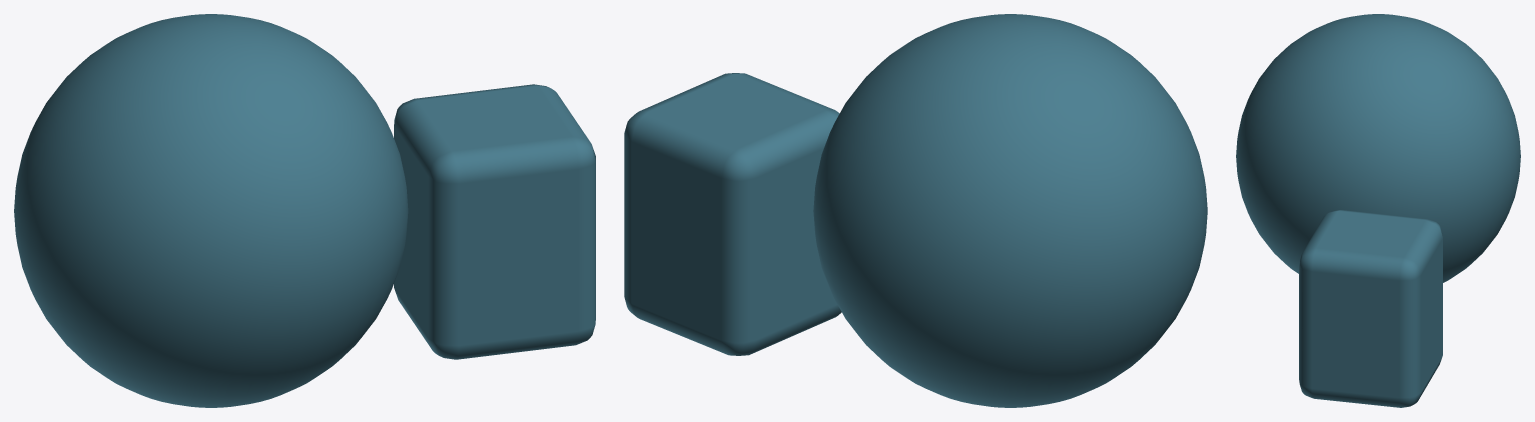
Rendered from two_tile_udim.obj.
3 views of the same model, side by side, from view 1: azimuth 30°, elevation 25°; view 2: azimuth 150°, elevation 25°; view 3: azimuth 270°, elevation 25° (orthographic). The views are drawn at different scales.
Parts seen in each view (by area): view 1: MaterialSphere, RoundedCompanion; view 2: MaterialSphere, RoundedCompanion; view 3: MaterialSphere, RoundedCompanion.
Part boxes in pixels (bbox=[...]): MaterialSphere: bbox=[14, 14, 408, 407]; RoundedCompanion: bbox=[394, 84, 595, 359]; MaterialSphere: bbox=[813, 14, 1207, 407]; RoundedCompanion: bbox=[624, 73, 841, 355]; MaterialSphere: bbox=[1236, 14, 1520, 282]; RoundedCompanion: bbox=[1299, 210, 1442, 407].
Bounding box in the file's own units: 2.98 × 1.9 × 1.9.
